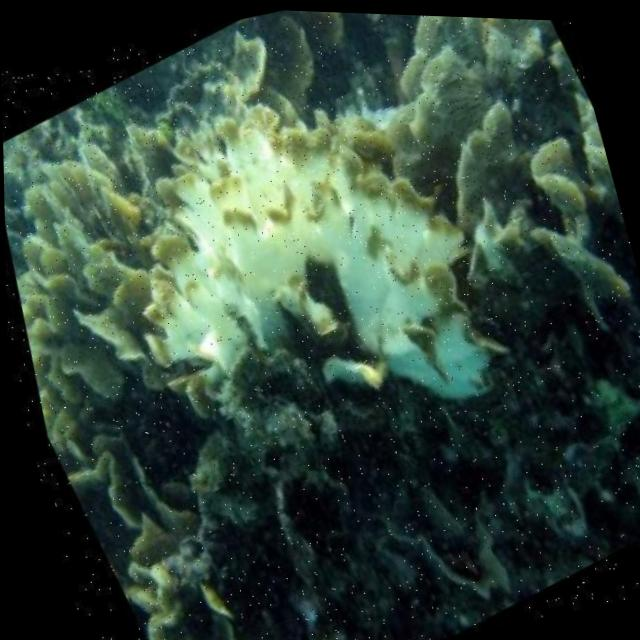Bleached Coral: (10, 0, 607, 584)
